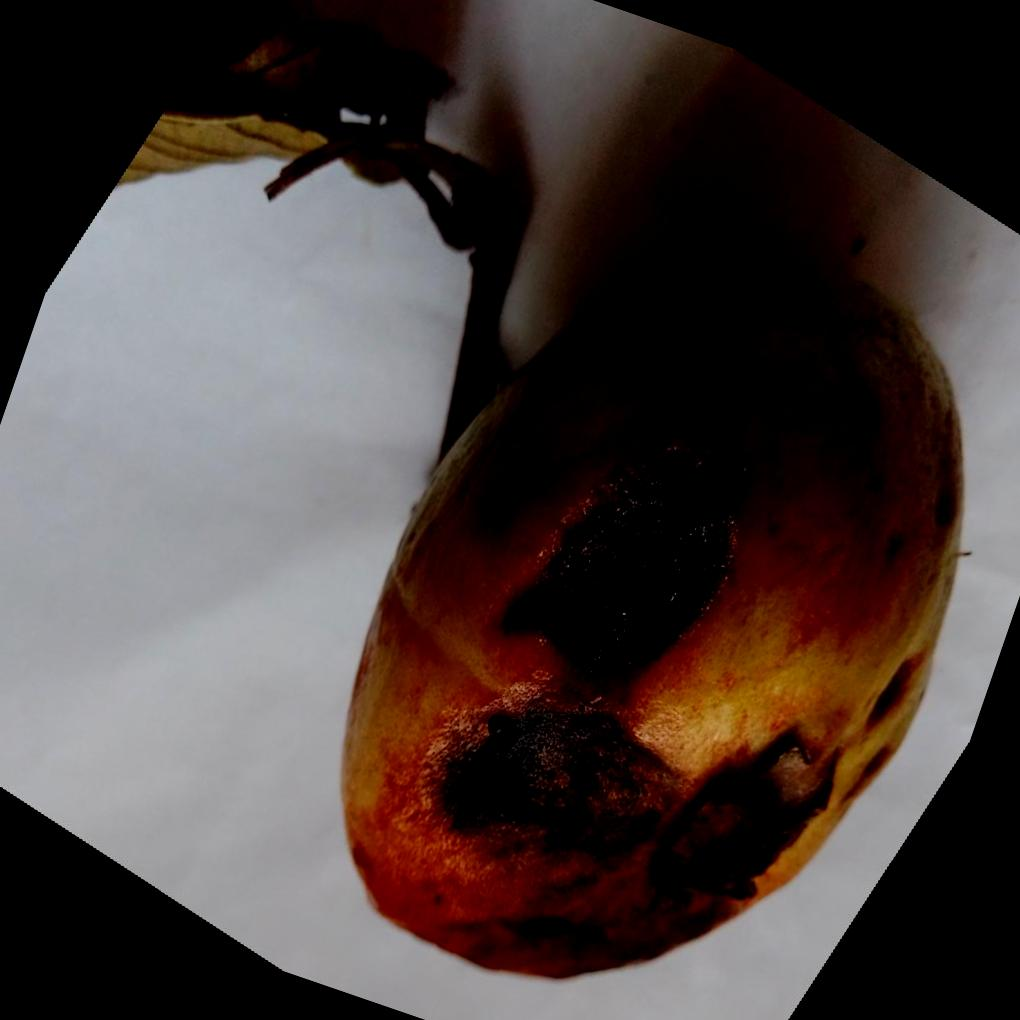FreshOrange: (340, 248, 969, 981)
